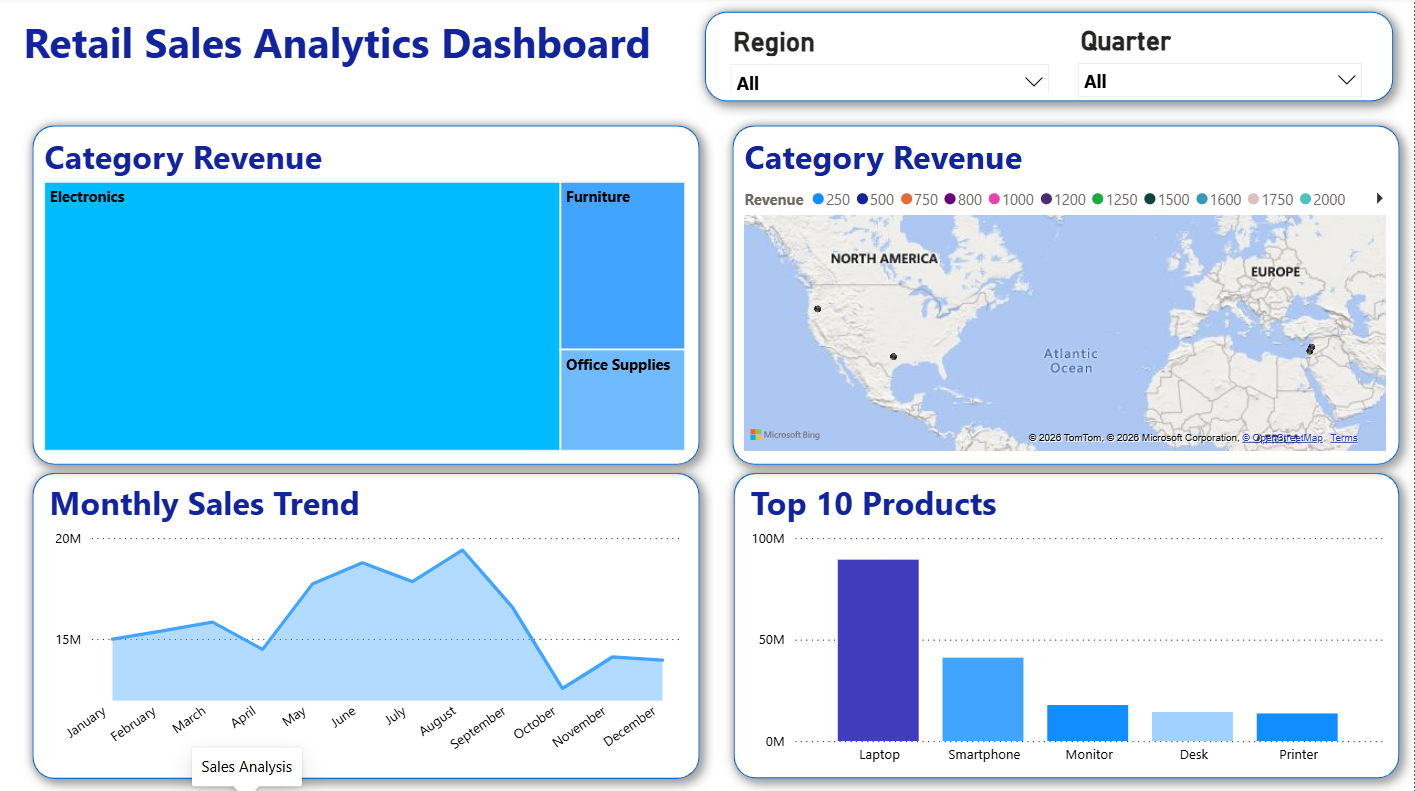

The dashboard page shown, as its layout file describes it:
{"tool":"powerbi","page":{"name":"Sales Analysis","canvas":[1280,720],"ordinal":1},"visuals":[{"type":"group","id":"g1","title":"Group 1","box":[625.7,0,649.1,107.7],"z":0,"group":"g10"},{"type":"shape","box":[625.7,0,649.1,107.7],"z":0,"group":"g1"},{"type":"group","id":"g2","title":"Group 1","box":[16.5,102.9,629.8,333.4],"z":0,"group":"g8"},{"type":"shape","box":[16.5,102.9,629.8,333.4],"z":0,"group":"g2"},{"type":"group","id":"g3","title":"Group 1","box":[650.4,102.9,629.8,333.4],"z":0,"group":"g9"},{"type":"shape","box":[650.4,102.9,629.8,333.4],"z":0,"group":"g3"},{"type":"group","id":"g4","title":"Group 1","box":[651.4,417.1,628.6,302.9],"z":0,"group":"g7"},{"type":"shape","box":[651.4,417.1,628.6,302.9],"z":0,"group":"g4"},{"type":"group","id":"g5","title":"Group 2","box":[16.5,417.2,629.8,303.3],"z":0},{"type":"group","id":"g6","title":"Group 1","box":[16.5,417.2,629.8,303.3],"z":0,"group":"g5"},{"type":"shape","box":[16.5,417.2,629.8,303.3],"z":0,"group":"g6"},{"type":"slicer","fields":{"Values":["Orders_Big.OrderDate.Variation.Date Hierarchy.Quarter"]},"box":[965.9,20.6,277.1,72.3],"z":1000,"group":"g10"},{"type":"treemap","title":"Category Revenue","fields":{"Values":["Sum(Orders_Big.Revenue)"],"Group":["Products_Big.Category"]},"box":[35.3,123.6,589.6,292.3],"z":1000,"group":"g8"},{"type":"map","title":"Category Revenue","fields":{"Category":["Orders_Big.Region"],"Series":["Orders_Big.Revenue"]},"box":[669.2,123.6,589.6,292.3],"z":1000,"group":"g9"},{"type":"group","id":"g7","title":"Group 2","box":[651.4,417.1,628.6,302.9],"z":1000},{"type":"columnChart","title":"Top 10 Products","fields":{"Category":["Products_Big.ProductName"],"Y":["Sum(Orders_Big.Revenue)"]},"box":[675.6,436.2,581.6,266.8],"z":1000,"group":"g7"},{"type":"lineChart","title":"Monthly Sales Trend","fields":{"Y":["Sum(Orders_Big.Revenue)"],"Category":["Orders_Big.OrderDate.Variation.Date Hierarchy.Month"]},"box":[40.7,436.4,582.7,267.2],"z":1000,"group":"g5"},{"type":"group","id":"g8","title":"Group 2","box":[16.5,102.9,629.8,333.4],"z":2000},{"type":"slicer","fields":{"Values":["Orders_Big.Region"]},"box":[651.4,21.2,308.6,64.8],"z":3000,"group":"g10"},{"type":"group","id":"g9","title":"Group 2","box":[650.4,102.9,629.8,333.4],"z":3000},{"type":"group","id":"g10","title":"Group 2","box":[625.7,0,648.6,107.1],"z":4000},{"type":"textbox","box":[17.1,10,602.9,74.3],"z":6000}]}

Visuals, with their boxes in screenshot pixels (x1, y1, x2, y2), scaled from the page's 1280x720 canvas onto the 1415x791 screenshot:
"Group 1" group: [x1=692, y1=0, x2=1409, y2=118]
shape: [x1=692, y1=0, x2=1409, y2=118]
"Group 1" group: [x1=18, y1=113, x2=714, y2=479]
shape: [x1=18, y1=113, x2=714, y2=479]
"Group 1" group: [x1=719, y1=113, x2=1414, y2=479]
shape: [x1=719, y1=113, x2=1414, y2=479]
"Group 1" group: [x1=720, y1=458, x2=1414, y2=790]
shape: [x1=720, y1=458, x2=1414, y2=790]
"Group 2" group: [x1=18, y1=458, x2=714, y2=790]
"Group 1" group: [x1=18, y1=458, x2=714, y2=790]
shape: [x1=18, y1=458, x2=714, y2=790]
slicer - Orders_Big.OrderDate.Variation.Date Hierarchy.Quarter: [x1=1068, y1=23, x2=1374, y2=102]
"Category Revenue" treemap: [x1=39, y1=136, x2=691, y2=457]
"Category Revenue" map: [x1=740, y1=136, x2=1392, y2=457]
"Group 2" group: [x1=720, y1=458, x2=1414, y2=790]
"Top 10 Products" columnChart: [x1=747, y1=479, x2=1390, y2=772]
"Monthly Sales Trend" lineChart: [x1=45, y1=479, x2=689, y2=773]
"Group 2" group: [x1=18, y1=113, x2=714, y2=479]
slicer - Orders_Big.Region: [x1=720, y1=23, x2=1061, y2=94]
"Group 2" group: [x1=719, y1=113, x2=1414, y2=479]
"Group 2" group: [x1=692, y1=0, x2=1409, y2=118]
textbox: [x1=19, y1=11, x2=685, y2=93]
